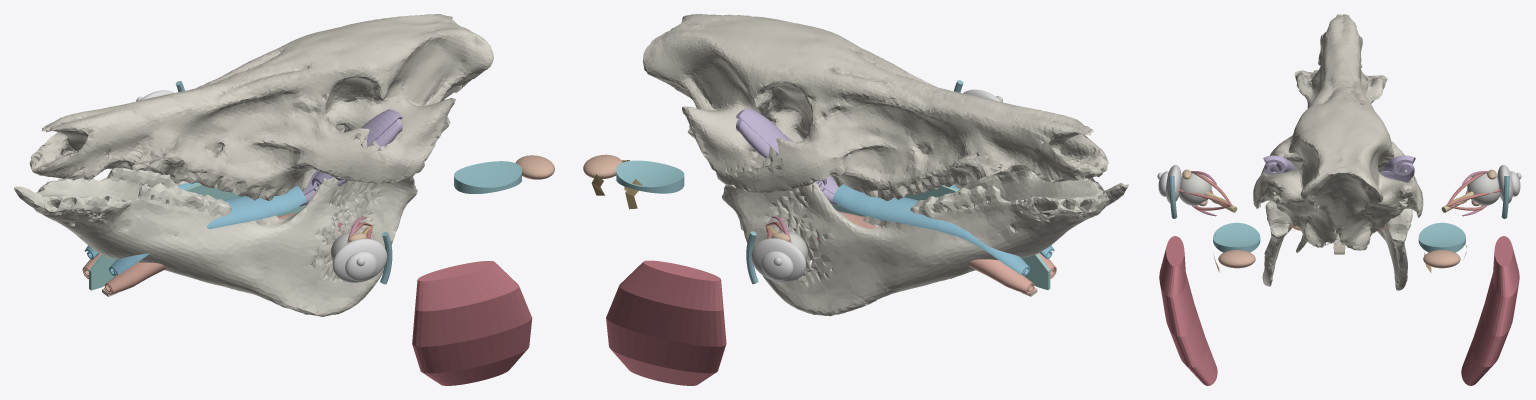
Rendered from PigDissect_v1.21b_Head_SCHEMATIC_UNVERIFIED.glb.
3 renders of one model, left to right at view 1: azimuth 30°, elevation 25°; view 2: azimuth 150°, elevation 25°; view 3: azimuth 270°, elevation 25°, orthographic. The views are drawn at different scales.
Visible parts, largest first — view 1: BONE_SKULL_DUNDEE_SCANNED_CRANIUM_M_001, BONE_MANDIBLE_DUNDEE_SCANNED_MANDIBLE_M_001, MUSCLE_MASSETER_L__superficial_schematic, NASAL_CONCHA_DORSAL_L__SCHEMATIC, DISC_TMJ_L__BICONCAVE_SCHEMATIC_UNVERIFIED_v118, NASAL_SEPTUM__CARTILAGE_MIDLINE_SCHEMATIC, BODY_SKIN__eye_socket_1, NASAL_ETHMOTURBINATE_L_03__ILLUSTRATIVE_SCHEMATIC, NASAL_CONCHA_VENTRAL_L__SCHEMATIC, RETRODISC_TMJ_L__FIBROFATTY_SCHEMATIC_UNVERIFIED_v118, BODY_SKIN__eye_1; view 2: BONE_SKULL_DUNDEE_SCANNED_CRANIUM_M_001, BONE_MANDIBLE_DUNDEE_SCANNED_MANDIBLE_M_001, MUSCLE_MASSETER_R__superficial_schematic, NASAL_CONCHA_DORSAL_R__SCHEMATIC, DISC_TMJ_R__BICONCAVE_SCHEMATIC_UNVERIFIED_v118, NASAL_ETHMOTURBINATE_R_03__ILLUSTRATIVE_SCHEMATIC, NASAL_CONCHA_VENTRAL_R__SCHEMATIC, NASAL_SEPTUM__CARTILAGE_MIDLINE_SCHEMATIC, BODY_SKIN__eye_socket_-1, BODY_SKIN__eye_-1, RETRODISC_TMJ_R__FIBROFATTY_SCHEMATIC_UNVERIFIED_v118; view 3: BONE_SKULL_DUNDEE_SCANNED_CRANIUM_M_001, MUSCLE_MASSETER_R__superficial_schematic, MUSCLE_MASSETER_L__superficial_schematic, BONE_MANDIBLE_DUNDEE_SCANNED_MANDIBLE_M_001, DISC_TMJ_L__BICONCAVE_SCHEMATIC_UNVERIFIED_v118, DISC_TMJ_R__BICONCAVE_SCHEMATIC_UNVERIFIED_v118, EYE_GLOBE_L__schematic_v113, EYE_GLOBE_R__schematic_v113, NASAL_ETHMOTURBINATE_R_03__ILLUSTRATIVE_SCHEMATIC, RETRODISC_TMJ_L__FIBROFATTY_SCHEMATIC_UNVERIFIED_v118, RETRODISC_TMJ_R__FIBROFATTY_SCHEMATIC_UNVERIFIED_v118, NASAL_ETHMOTURBINATE_L_03__ILLUSTRATIVE_SCHEMATIC (+2 smaller).
Boxes of the visible parts, <box> form: BONE_SKULL_DUNDEE_SCANNED_CRANIUM_M_001: <box>29,14,493,200</box>; BONE_MANDIBLE_DUNDEE_SCANNED_MANDIBLE_M_001: <box>14,168,417,316</box>; MUSCLE_MASSETER_L__superficial_schematic: <box>412,261,532,385</box>; NASAL_CONCHA_DORSAL_L__SCHEMATIC: <box>109,186,306,275</box>; DISC_TMJ_L__BICONCAVE_SCHEMATIC_UNVERIFIED_v118: <box>454,161,521,193</box>; NASAL_SEPTUM__CARTILAGE_MIDLINE_SCHEMATIC: <box>89,183,306,290</box>; BODY_SKIN__eye_socket_1: <box>332,238,387,282</box>; NASAL_ETHMOTURBINATE_L_03__ILLUSTRATIVE_SCHEMATIC: <box>335,109,402,180</box>; NASAL_CONCHA_VENTRAL_L__SCHEMATIC: <box>104,212,297,294</box>; RETRODISC_TMJ_L__FIBROFATTY_SCHEMATIC_UNVERIFIED_v118: <box>515,155,554,179</box>; BODY_SKIN__eye_1: <box>345,251,377,281</box>; BONE_SKULL_DUNDEE_SCANNED_CRANIUM_M_001: <box>643,14,1108,200</box>; BONE_MANDIBLE_DUNDEE_SCANNED_MANDIBLE_M_001: <box>721,170,1128,316</box>; MUSCLE_MASSETER_R__superficial_schematic: <box>606,260,726,385</box>; NASAL_CONCHA_DORSAL_R__SCHEMATIC: <box>832,184,1030,275</box>; DISC_TMJ_R__BICONCAVE_SCHEMATIC_UNVERIFIED_v118: <box>616,160,684,193</box>; NASAL_ETHMOTURBINATE_R_03__ILLUSTRATIVE_SCHEMATIC: <box>736,108,789,169</box>; NASAL_CONCHA_VENTRAL_R__SCHEMATIC: <box>837,211,1035,294</box>; NASAL_SEPTUM__CARTILAGE_MIDLINE_SCHEMATIC: <box>831,185,1050,289</box>; BODY_SKIN__eye_socket_-1: <box>751,238,806,282</box>; BODY_SKIN__eye_-1: <box>761,251,793,280</box>; RETRODISC_TMJ_R__FIBROFATTY_SCHEMATIC_UNVERIFIED_v118: <box>583,154,622,179</box>; BONE_SKULL_DUNDEE_SCANNED_CRANIUM_M_001: <box>1253,14,1423,252</box>; MUSCLE_MASSETER_R__superficial_schematic: <box>1461,236,1519,385</box>; MUSCLE_MASSETER_L__superficial_schematic: <box>1159,236,1217,385</box>; BONE_MANDIBLE_DUNDEE_SCANNED_MANDIBLE_M_001: <box>1262,70,1413,290</box>; DISC_TMJ_L__BICONCAVE_SCHEMATIC_UNVERIFIED_v118: <box>1213,222,1260,252</box>; DISC_TMJ_R__BICONCAVE_SCHEMATIC_UNVERIFIED_v118: <box>1418,222,1465,252</box>; EYE_GLOBE_L__schematic_v113: <box>1179,173,1211,205</box>; EYE_GLOBE_R__schematic_v113: <box>1467,173,1499,205</box>; NASAL_ETHMOTURBINATE_R_03__ILLUSTRATIVE_SCHEMATIC: <box>1383,155,1415,182</box>; RETRODISC_TMJ_L__FIBROFATTY_SCHEMATIC_UNVERIFIED_v118: <box>1218,250,1255,268</box>; RETRODISC_TMJ_R__FIBROFATTY_SCHEMATIC_UNVERIFIED_v118: <box>1423,250,1460,268</box>; NASAL_ETHMOTURBINATE_L_03__ILLUSTRATIVE_SCHEMATIC: <box>1263,155,1295,174</box>.
Bounding box in the file's own units: 1.26 × 0.7365 × 1.03.
